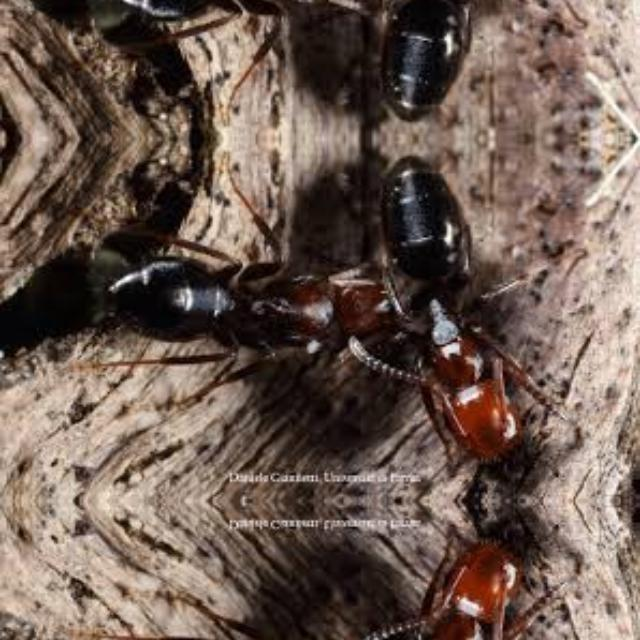Colobopsis: (352, 140, 568, 480), (66, 222, 438, 374), (350, 0, 568, 136), (350, 520, 568, 640), (66, 0, 437, 54)
